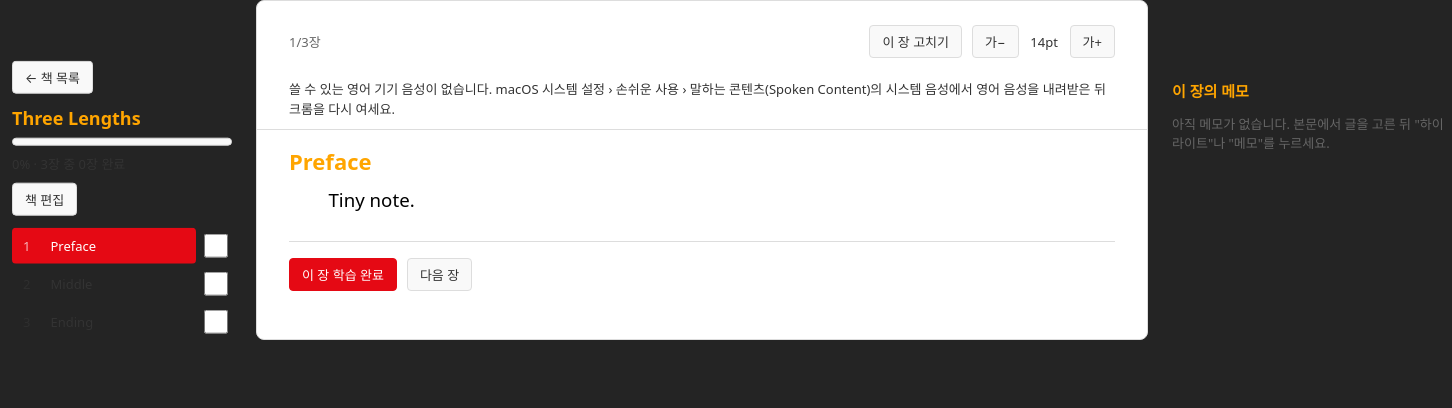
Test case: 4.1 chapter completion › 4.1-1 (c) "다음 장" opens the next chapter and the last chapter has none
Expected: the text "Tiny note." is shown, [328, 187, 415, 212]
Click the button "2 Middle": coordinates (104, 284) [12, 266, 196, 302]
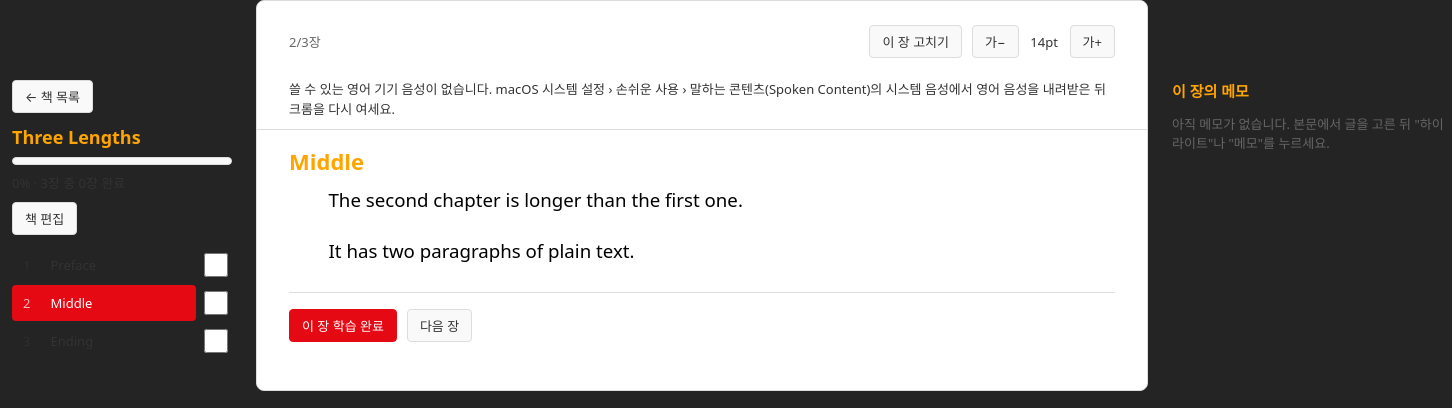
Expected: the text "The second chapter is longer than the first one." is shown, [328, 187, 743, 212]
Click the button "다음 장": coordinates (440, 326) [407, 309, 472, 342]
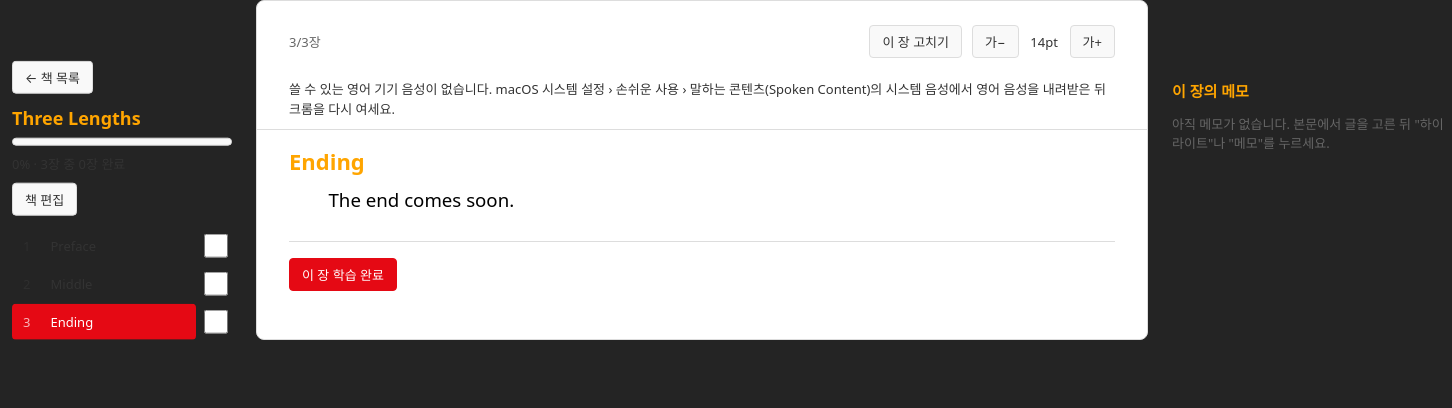
Expected: the text "The end comes soon." is shown, [328, 187, 514, 212]
Expected: the heading "Ending" is shown, [289, 146, 365, 176]
Expected: the button "다음 장" is gone
